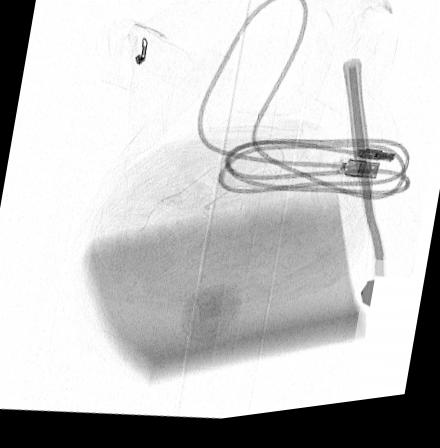Hammer: (341, 67, 386, 317)
